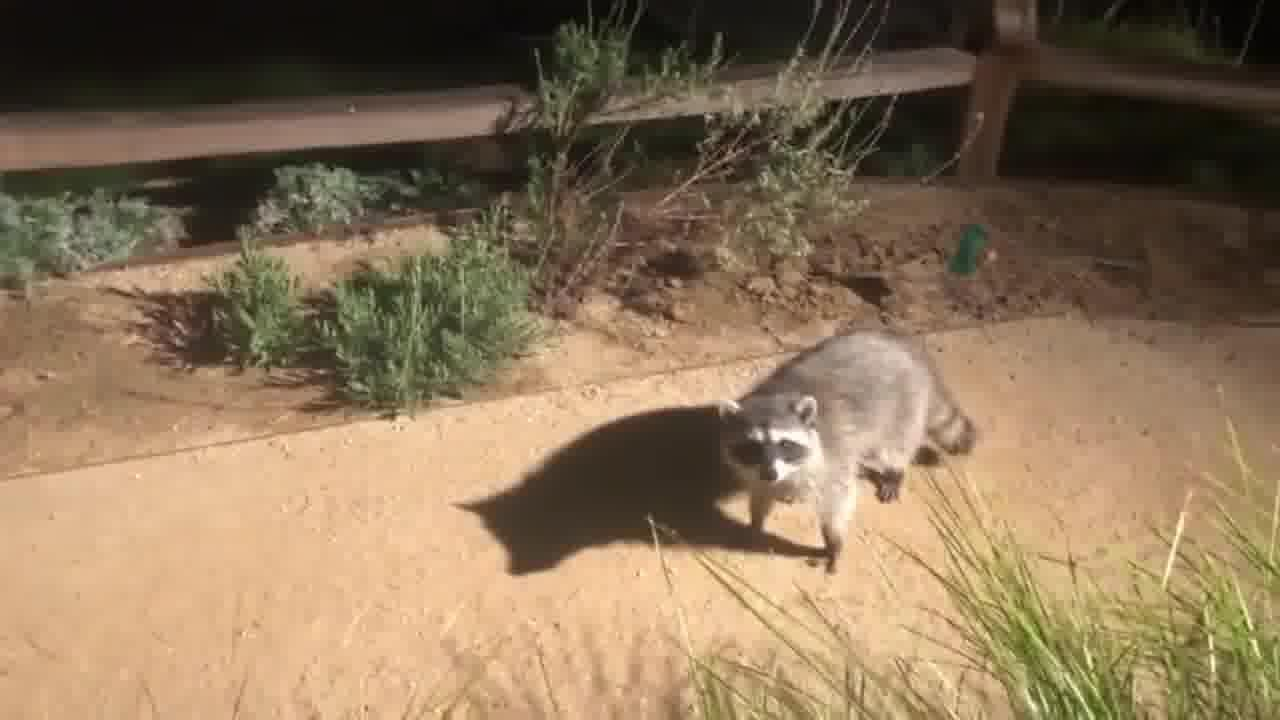raccoon: (711, 331, 982, 581)
